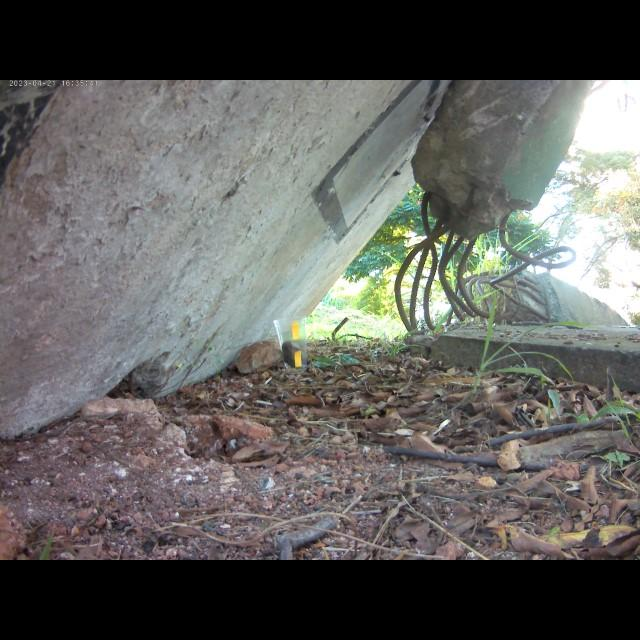detrito: (0, 80, 488, 446), (409, 80, 603, 245), (406, 266, 640, 396)
